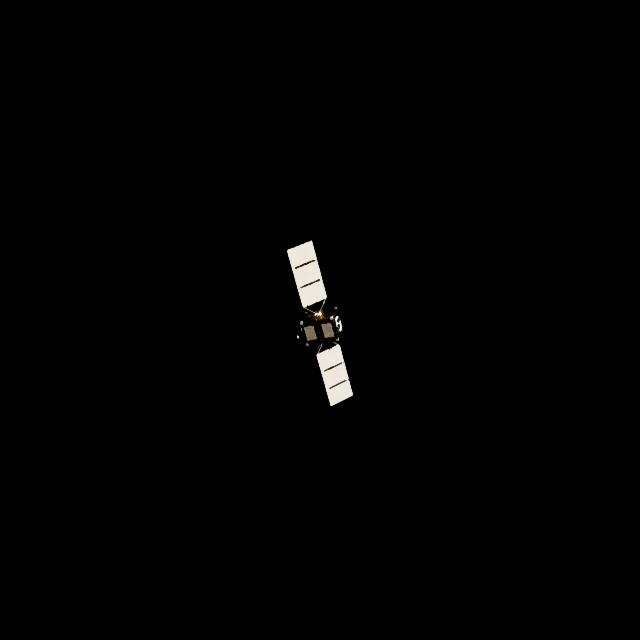medium_debris: (287, 242, 353, 407)
